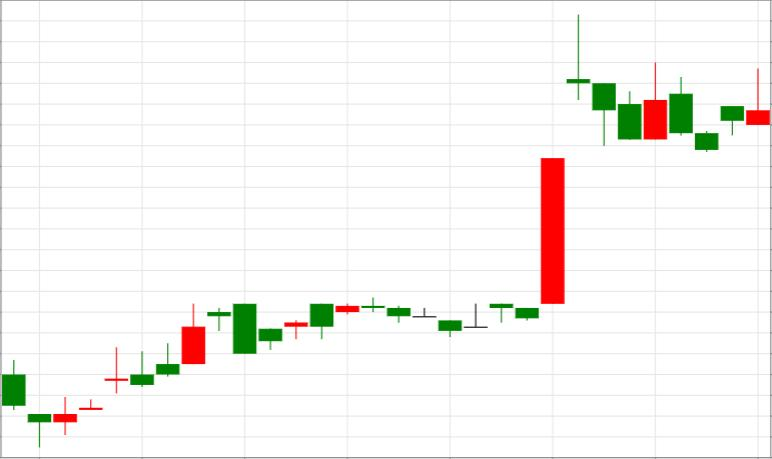evening_star_fall: (439, 15, 616, 336)
